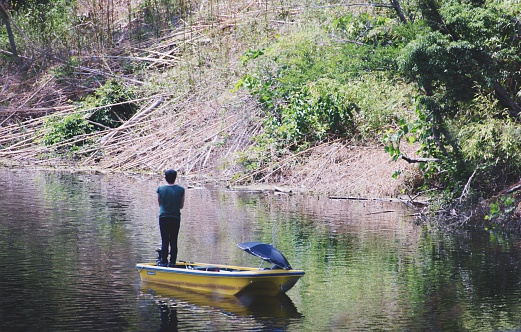em pe: (143, 160, 190, 262)
